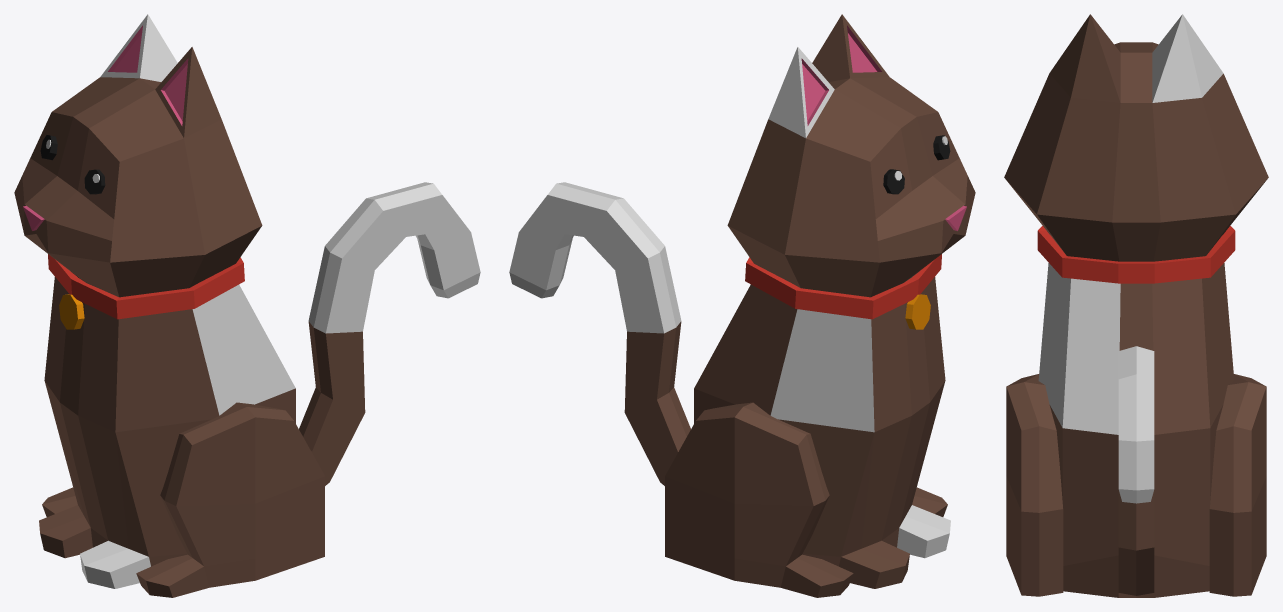
The model's file is cat.glb.
3 views of the same model, side by side, from view 1: azimuth 30°, elevation 25°; view 2: azimuth 150°, elevation 25°; view 3: azimuth 270°, elevation 25° (orthographic). The views are drawn at different scales.
Visible parts, largest first — view 1: char; view 2: char; view 3: char.
Part boxes in pixels (<box>): char: <box>14,14,480,597</box>; char: <box>509,14,975,597</box>; char: <box>1004,14,1268,597</box>.
Size of the model in its own units: 175 by 193 by 87.04.
